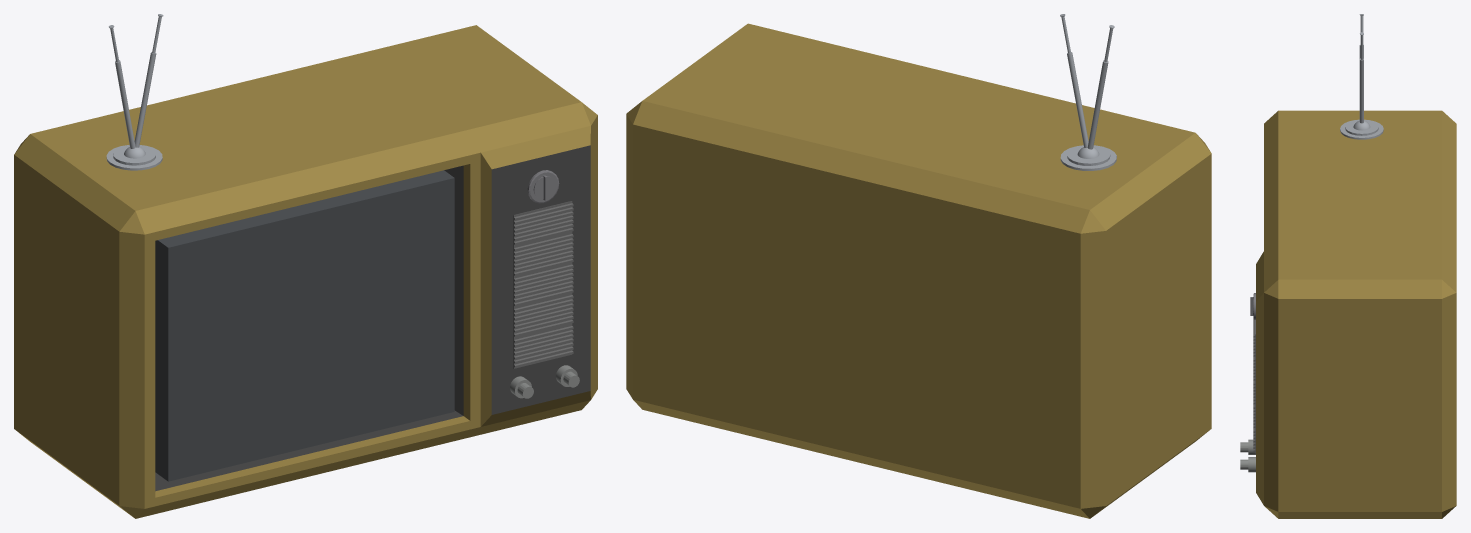
The picture shows the model from 3 angles, left to right: view 1: azimuth 30°, elevation 25°; view 2: azimuth 150°, elevation 25°; view 3: azimuth 270°, elevation 25°; orthographic projection. The views are drawn at different scales.
Parts seen in each view (by area): view 1: Retro; view 2: Retro; view 3: Retro.
Part boxes in pixels (x1,y1,x2,y2): Retro: (14,14,597,518); Retro: (626,14,1211,518); Retro: (1240,14,1456,518).
Bounding box in the file's own units: 2.23 × 1.99 × 1.12.
